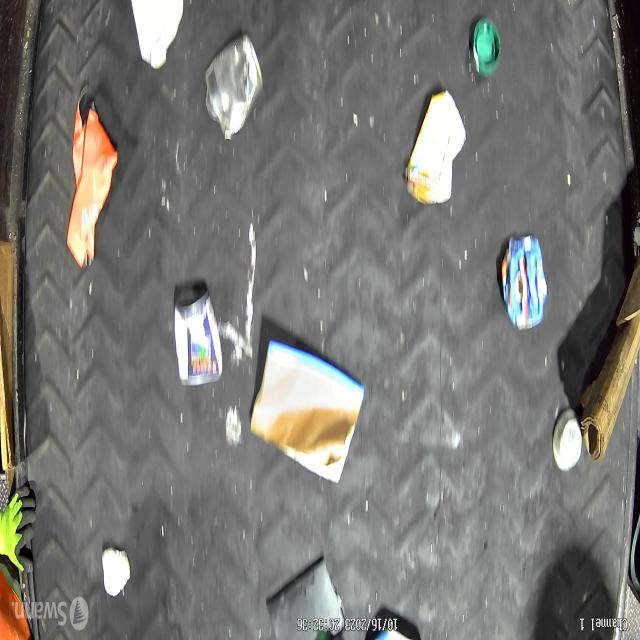can: (205, 31, 262, 142), (172, 283, 224, 388)
